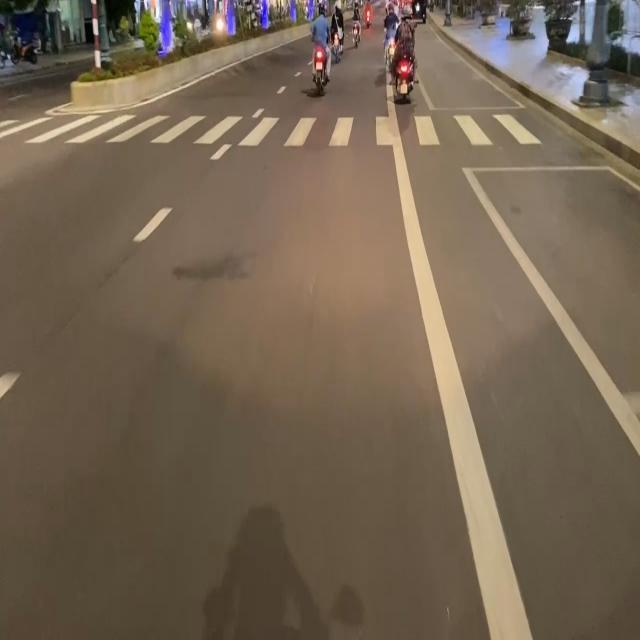walk-crossing: (1, 100, 557, 152)
